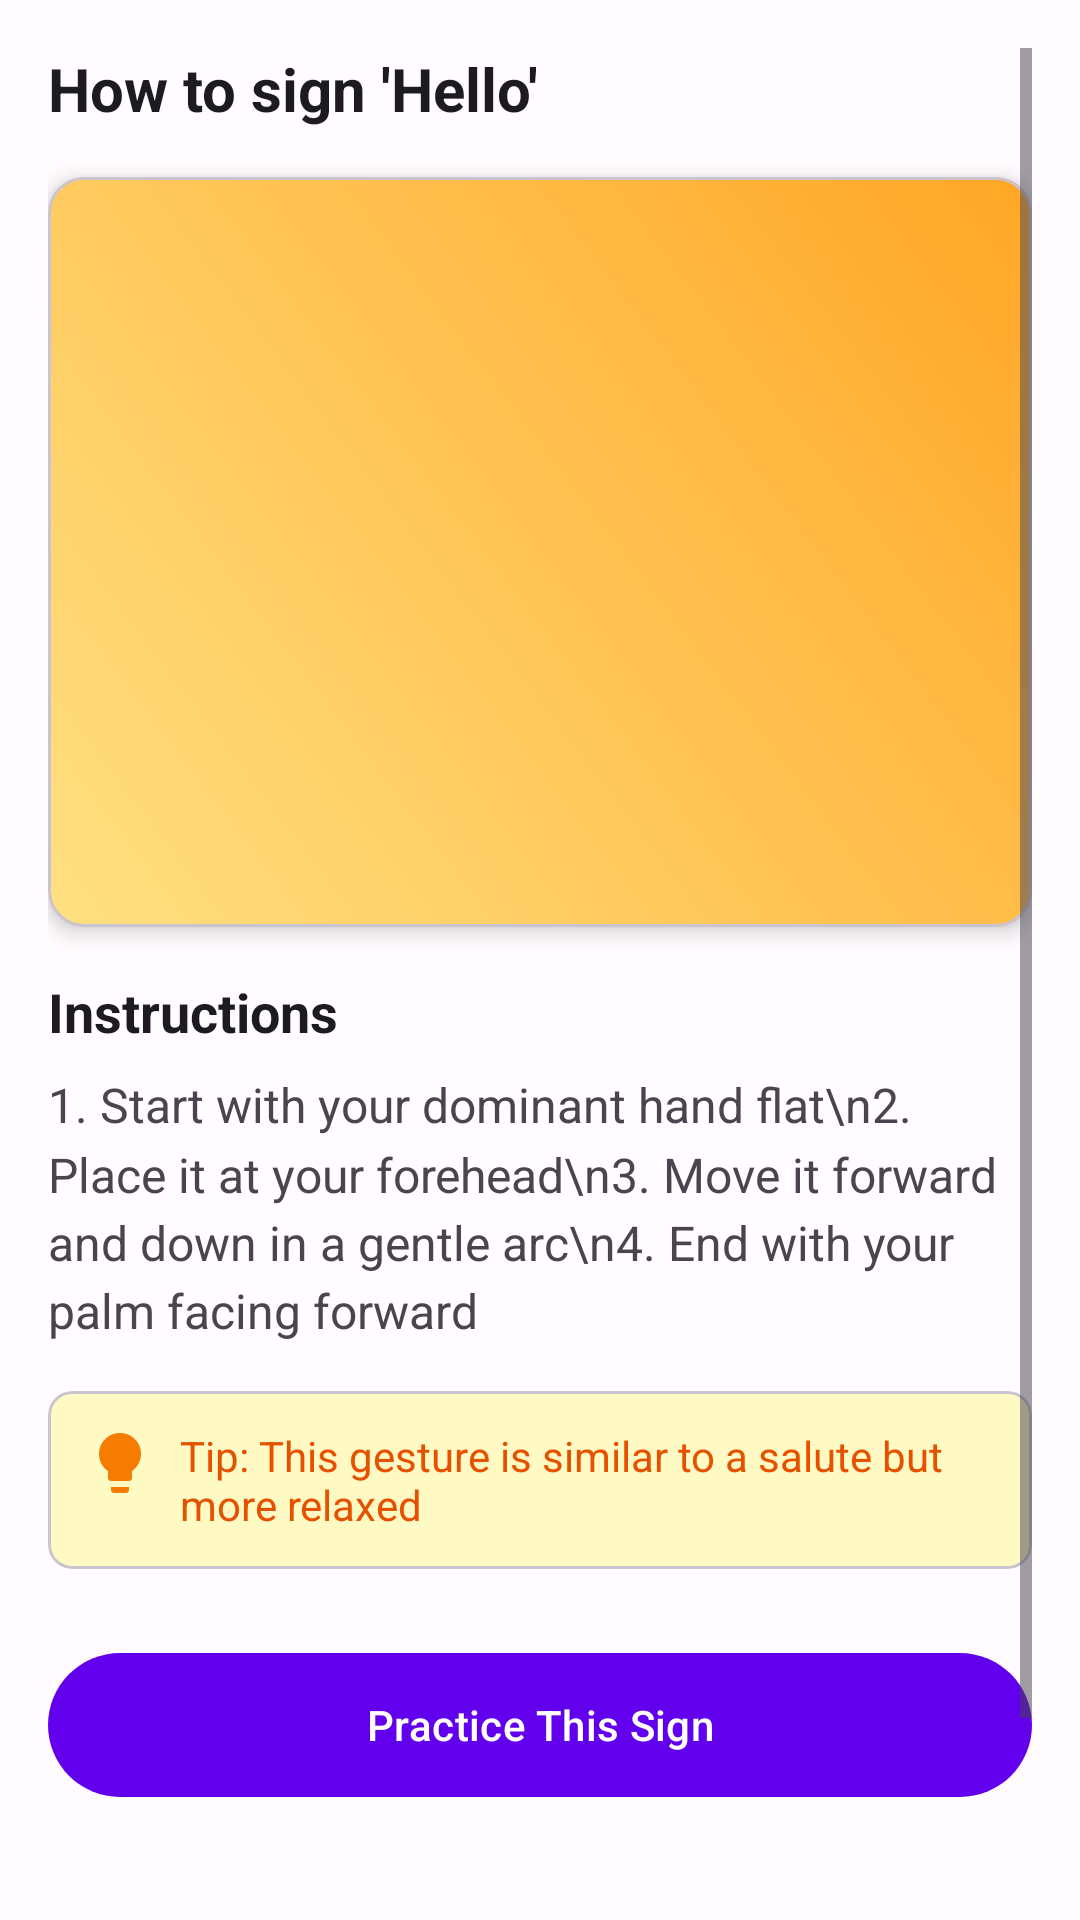

Icons on this 1080x1920 Android screen, each with its box as (x1, y1, x2, y2):
lightbulb: (99, 1433, 141, 1493)
